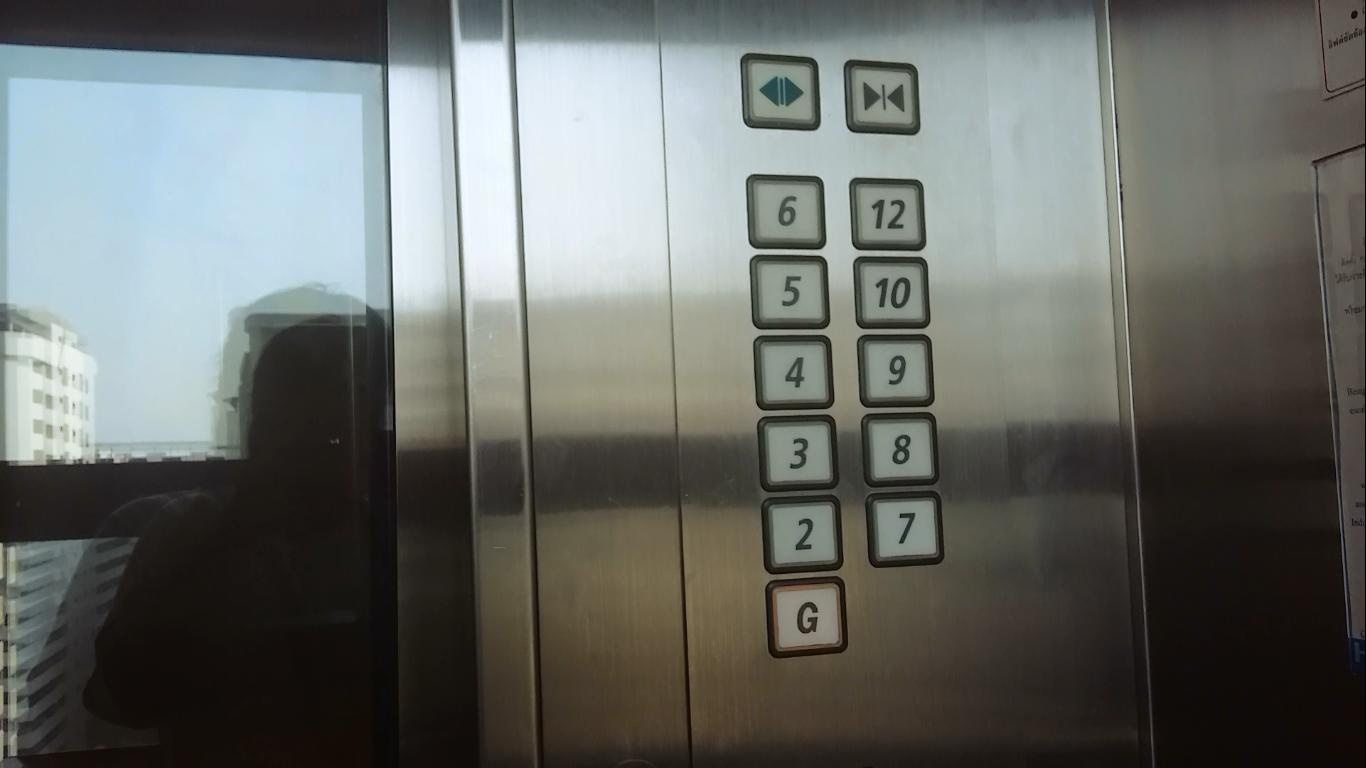10: (852, 255, 931, 328)
12: (848, 176, 928, 253)
2: (761, 494, 844, 575)
3: (756, 415, 839, 493)
4: (754, 334, 835, 410)
5: (749, 253, 832, 330)
6: (746, 172, 827, 251)
7: (865, 491, 946, 568)
8: (861, 411, 939, 487)
9: (855, 333, 935, 407)
G: (765, 575, 848, 658)
close: (842, 58, 922, 137)
open: (739, 51, 823, 133)
